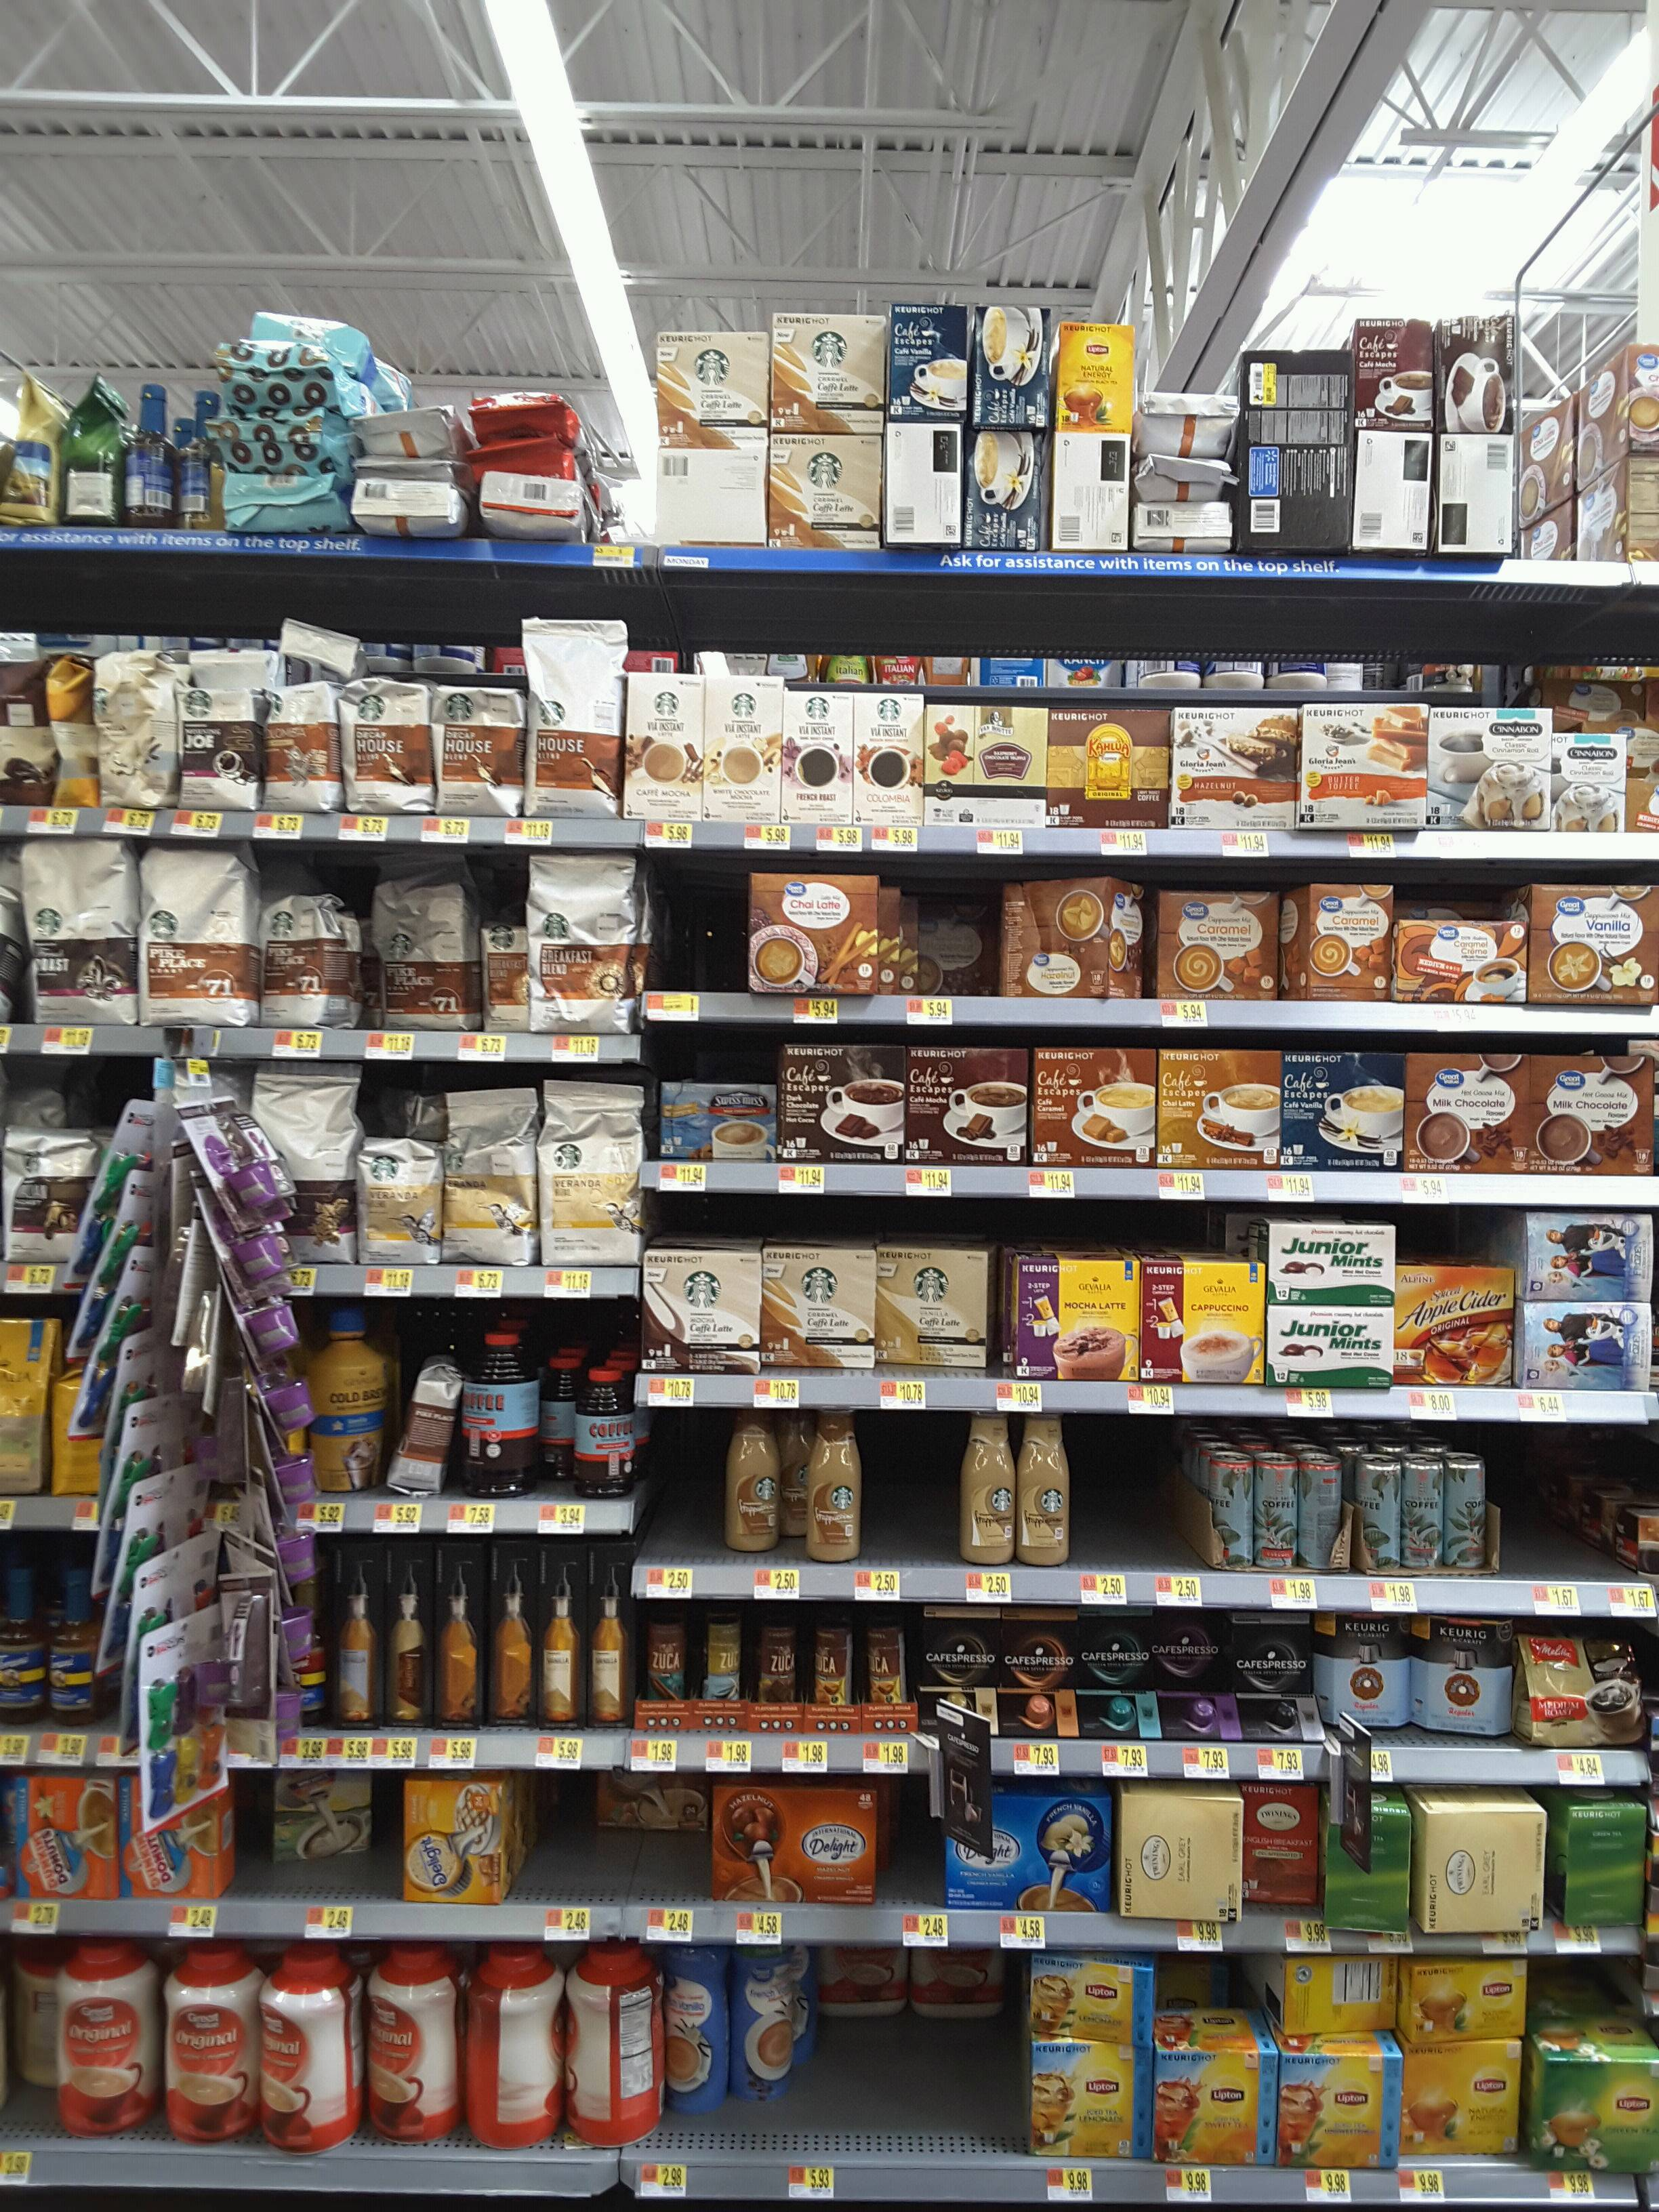Out-of-stock: (1070, 1420, 1206, 1569)
